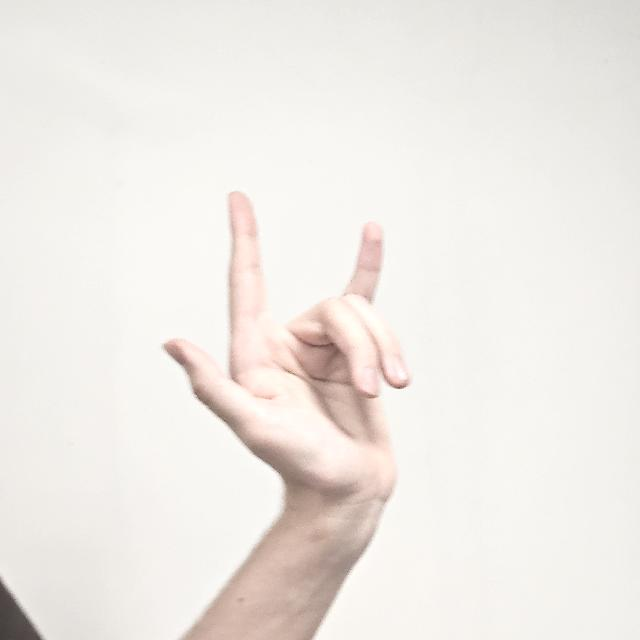Cima: (162, 184, 408, 524)
